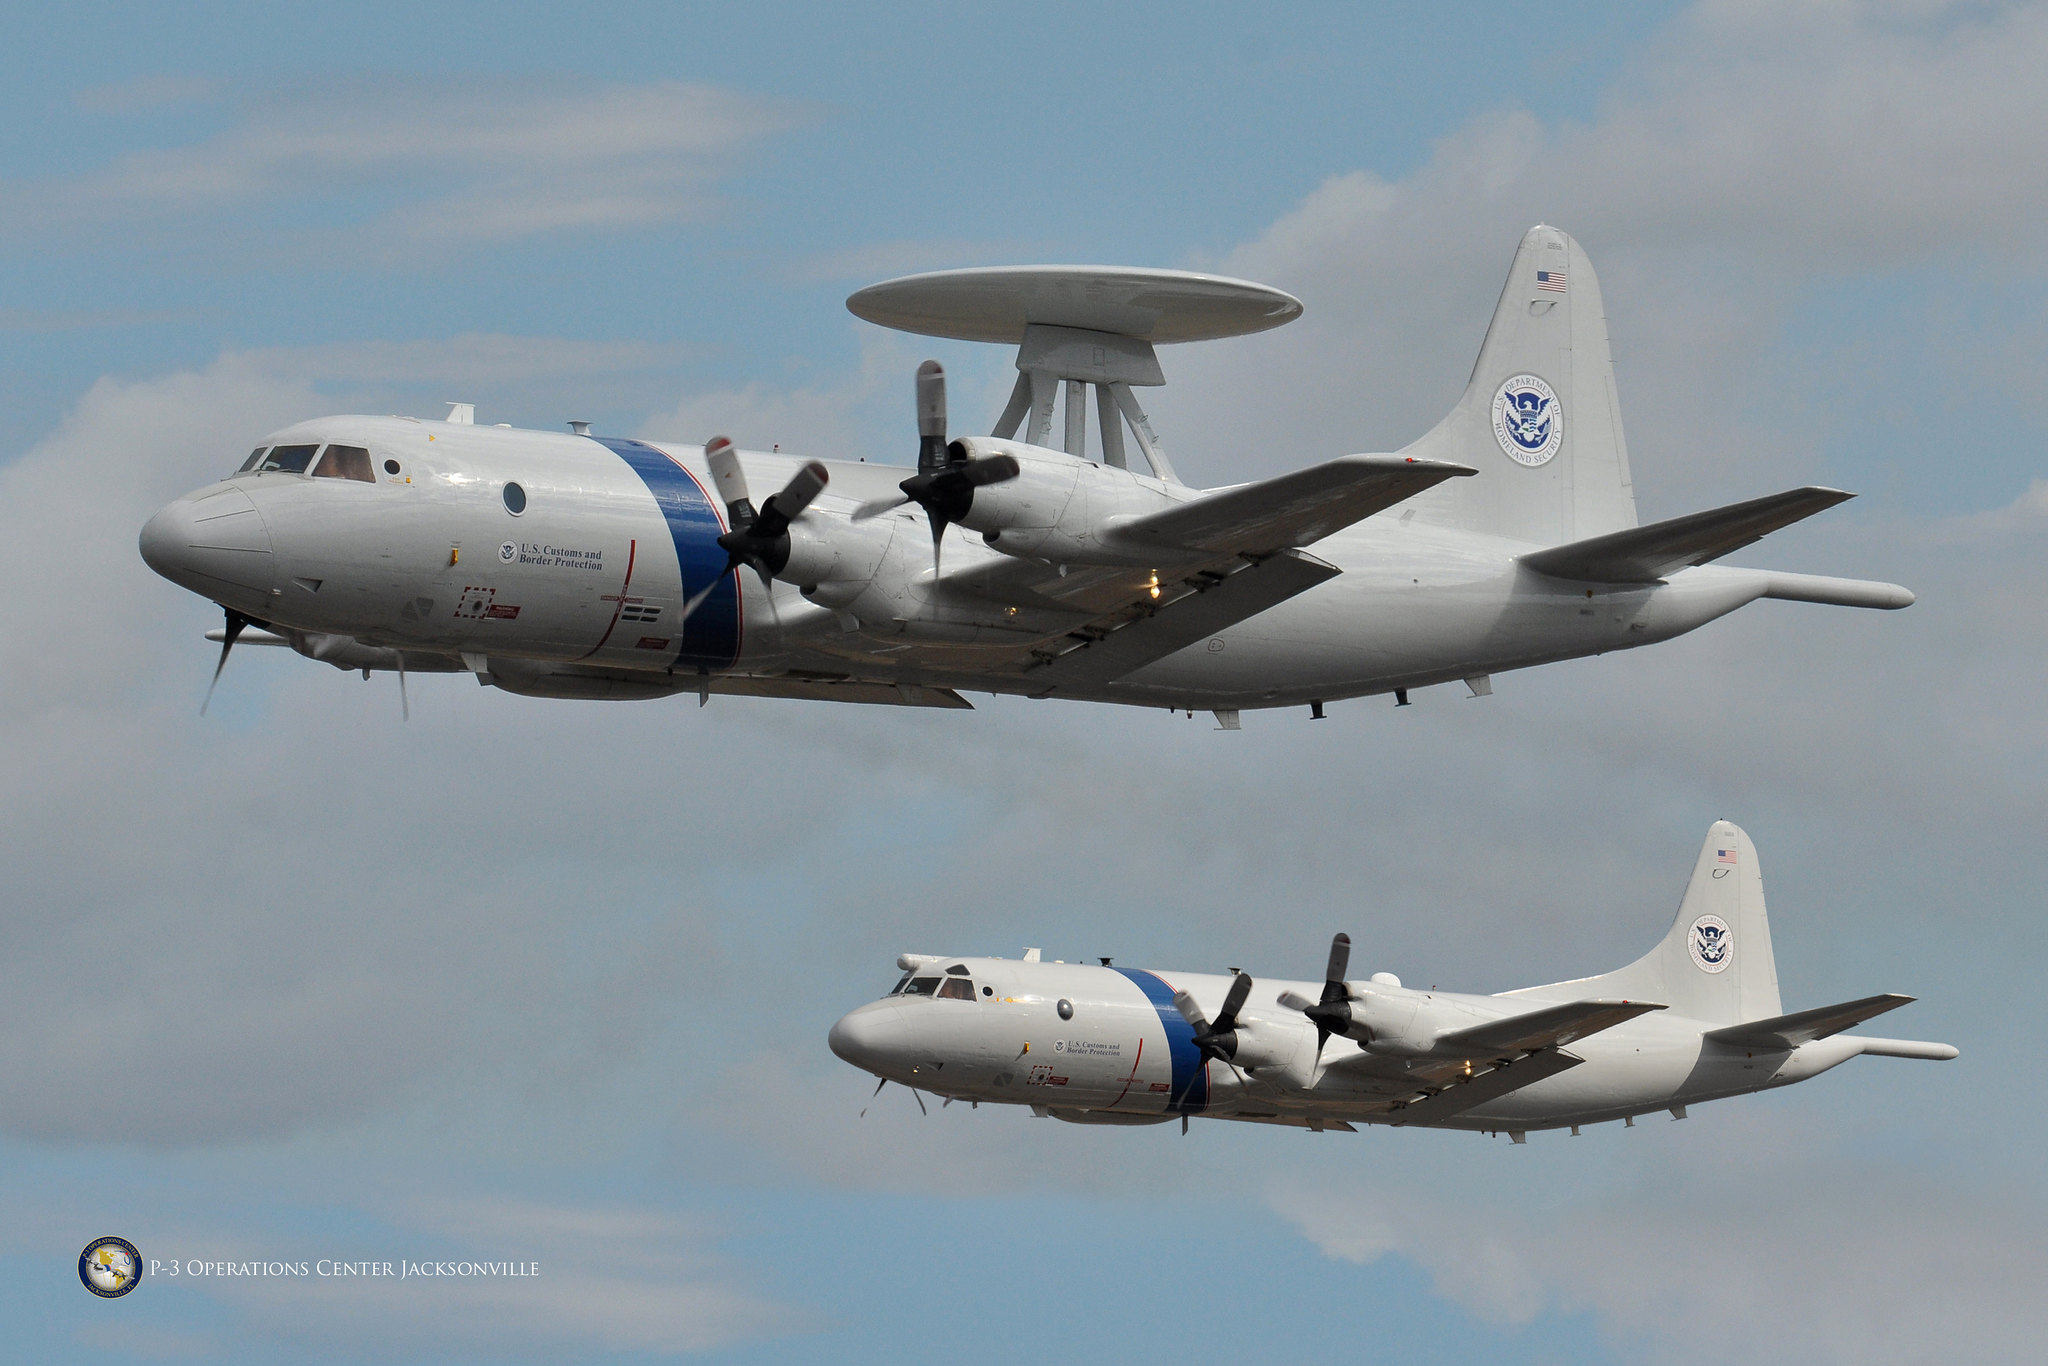airplane: (138, 220, 1918, 731), (828, 817, 1960, 1145)
